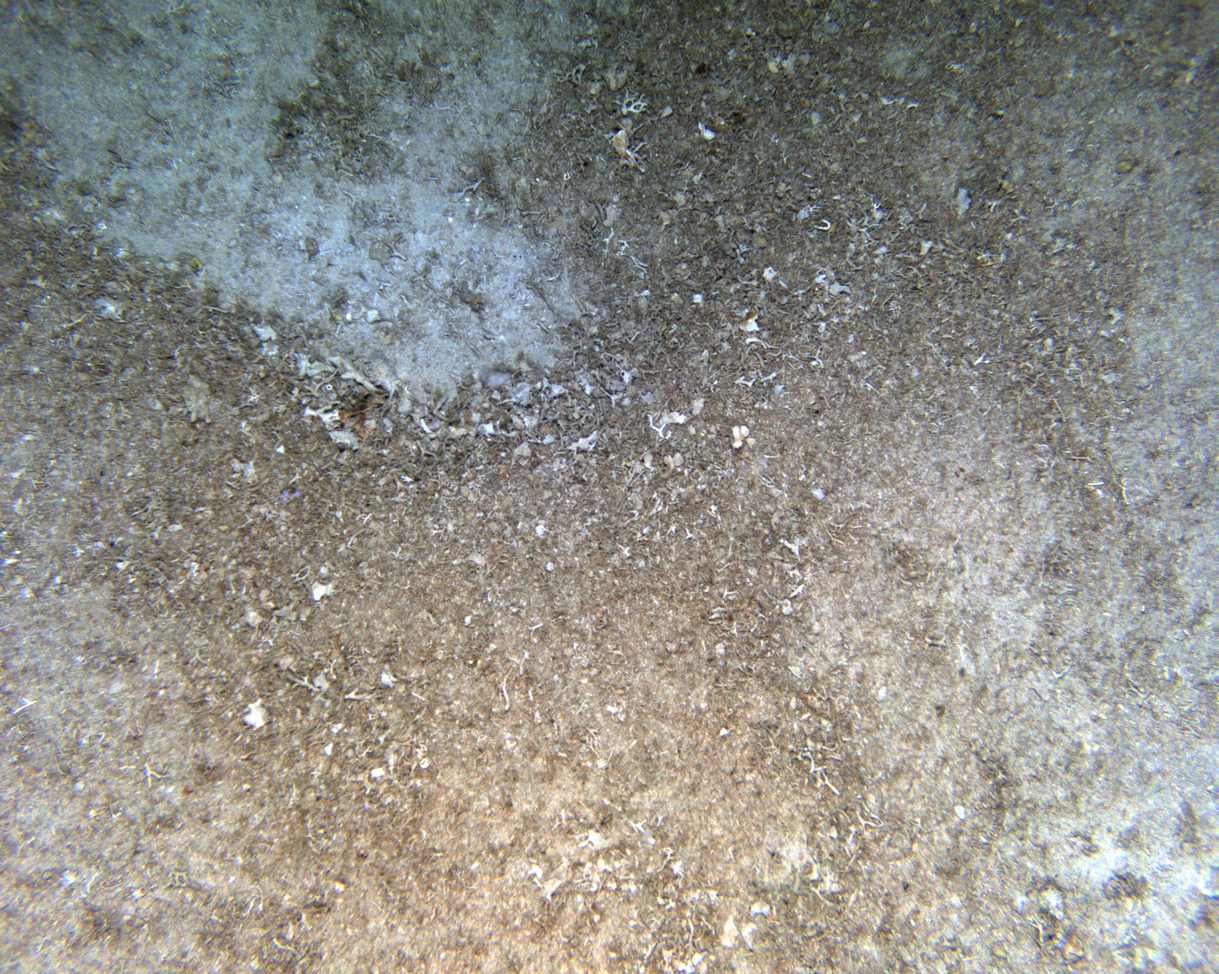Brachionichthyidae: (608, 129, 651, 173)
